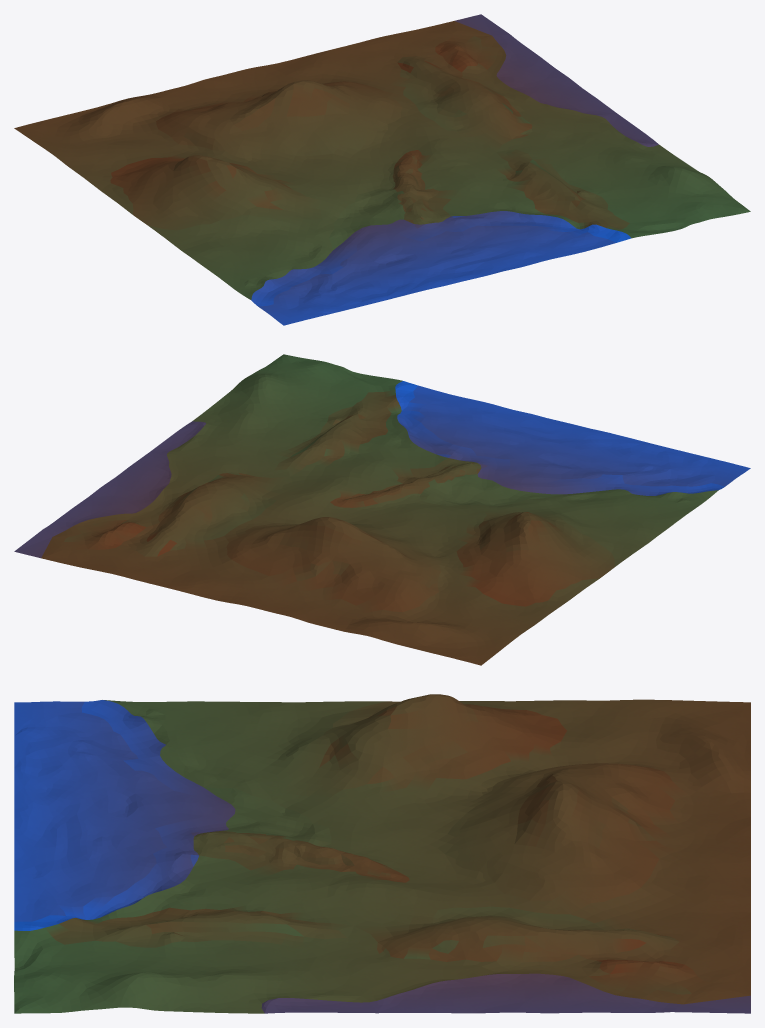
Rendered from WhyNot_RTS_Map1_high.fbx.
3 views of the same model, one above another, from view 1: azimuth 30°, elevation 25°; view 2: azimuth 150°, elevation 25°; view 3: azimuth 270°, elevation 25° (orthographic). The views are drawn at different scales.
Visible parts, largest first — view 1: 평면.004, 평면.006; view 2: 평면.004, 평면.006; view 3: 평면.004, 평면.006.
Boxes of the visible parts, left/top/right/bottom form: 평면.004: left=14, top=21, right=750, bottom=299; 평면.006: left=251, top=14, right=658, bottom=325; 평면.004: left=41, top=354, right=718, bottom=665; 평면.006: left=14, top=381, right=750, bottom=558; 평면.004: left=14, top=694, right=750, bottom=1013; 평면.006: left=14, top=700, right=750, bottom=1013.
Size of the model in its own units: 20012 by 1961 by 20013.
